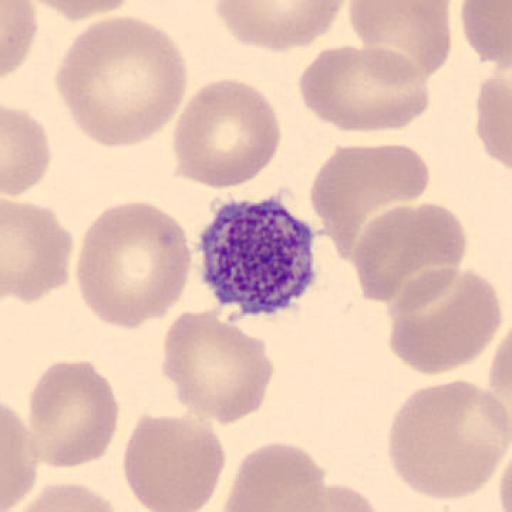Platelet: (194, 192, 322, 319)
RBC: (56, 15, 189, 149), (74, 199, 193, 331), (386, 378, 511, 502), (309, 142, 431, 260), (160, 304, 274, 427), (386, 266, 503, 376), (171, 78, 283, 190), (298, 43, 432, 133), (352, 202, 470, 304), (26, 360, 120, 470), (122, 413, 226, 511), (348, 0, 453, 80), (1, 198, 74, 304), (221, 440, 328, 512), (212, 0, 348, 54), (350, 209, 428, 303), (2, 104, 52, 199), (0, 402, 40, 512), (475, 62, 512, 172), (5, 482, 124, 512), (459, 0, 511, 66), (286, 481, 384, 512), (2, 0, 38, 79), (488, 328, 512, 436), (30, 0, 136, 21), (487, 334, 511, 410), (498, 450, 512, 512)
